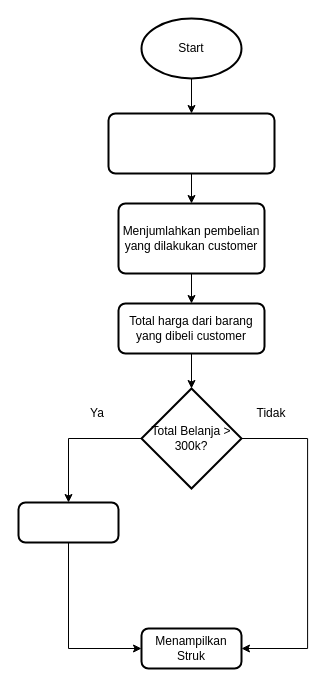
This 333x686 diagram has some shape labels left out. Here are the shapes that lost their labels. From the top down, the centre of each, then its label:
At [191,143]: "Menampilkan barang yang ingin dibeli oleh customer".
At [68,522]: "Mendapatkan diskon 10%".
